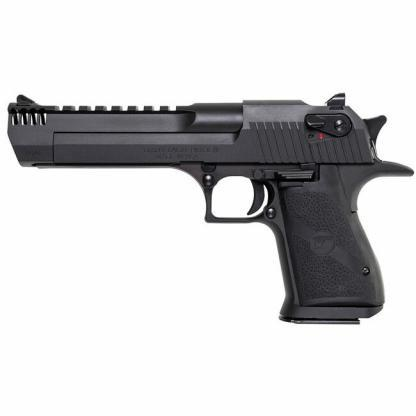Pistol: (7, 86, 414, 324)
